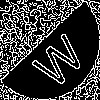W: (25, 25, 88, 91)
